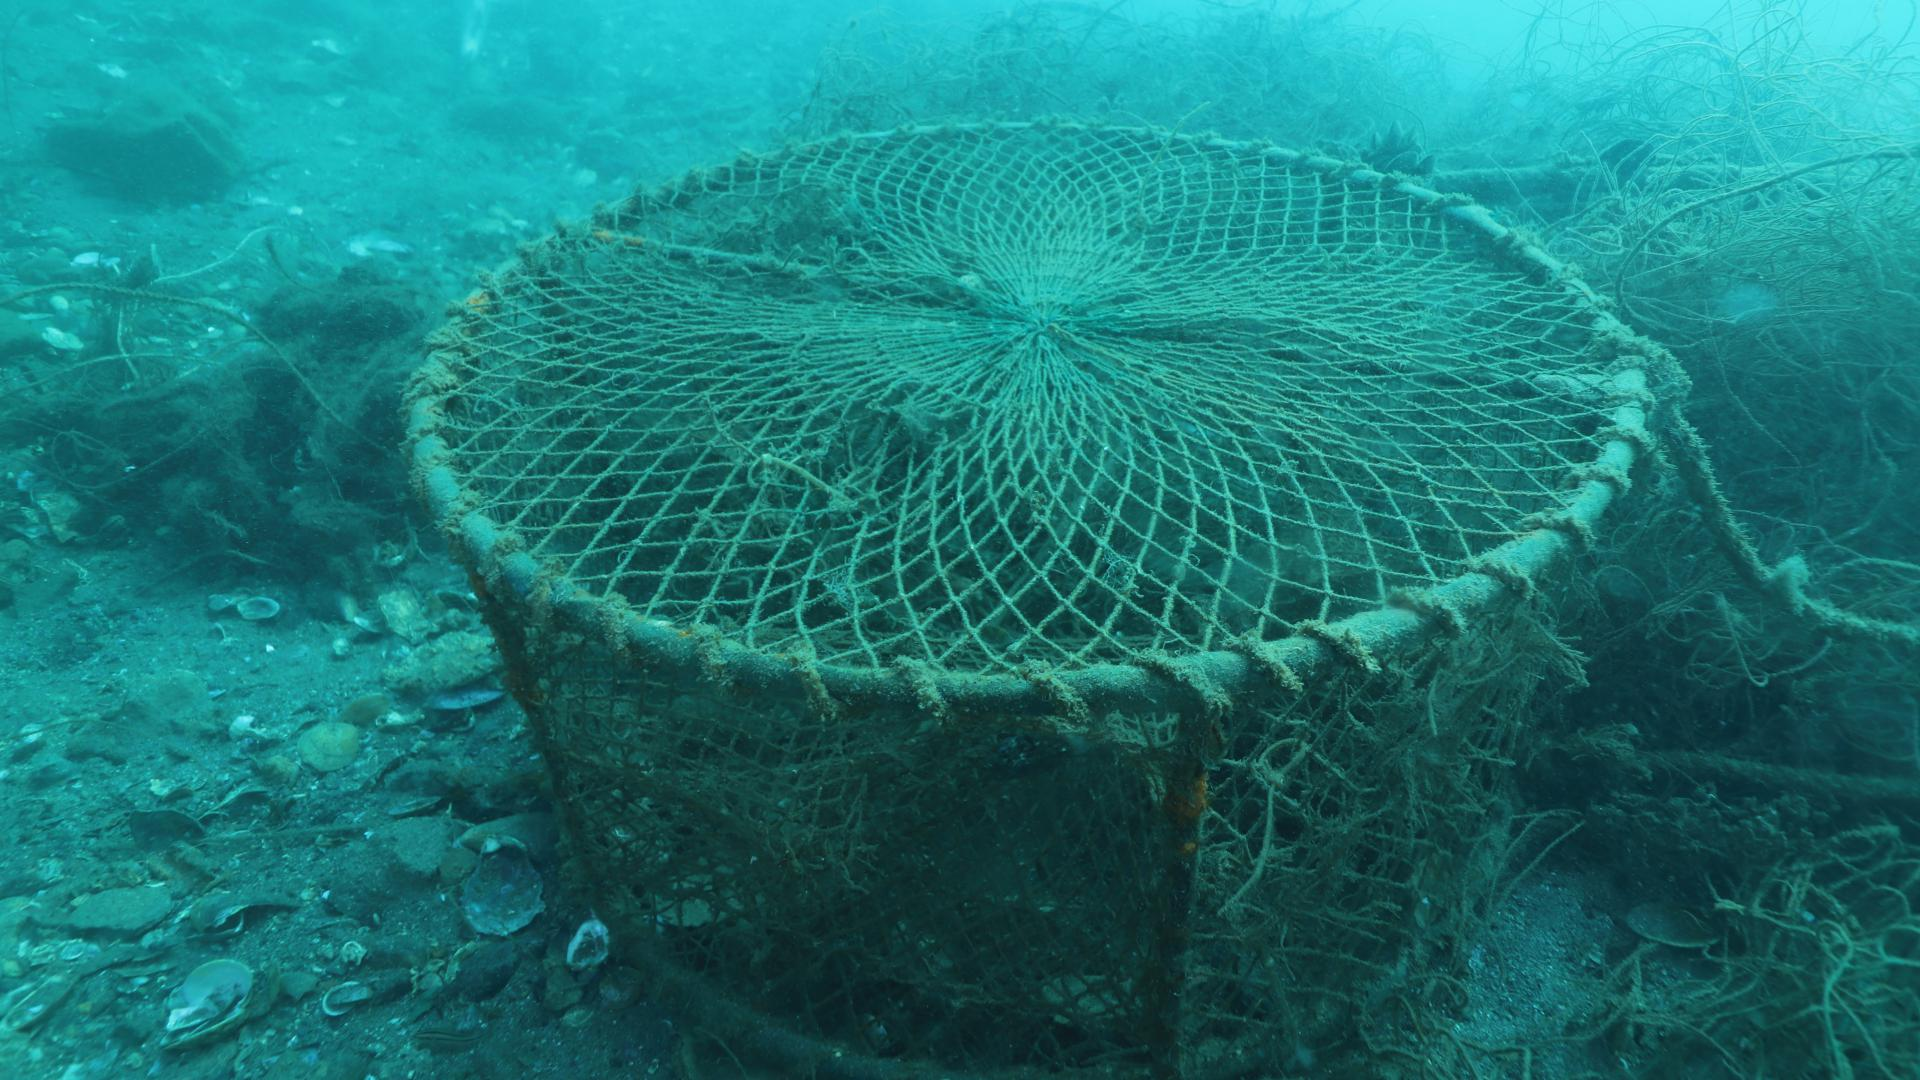circular fish trap: (404, 112, 1658, 1080)
